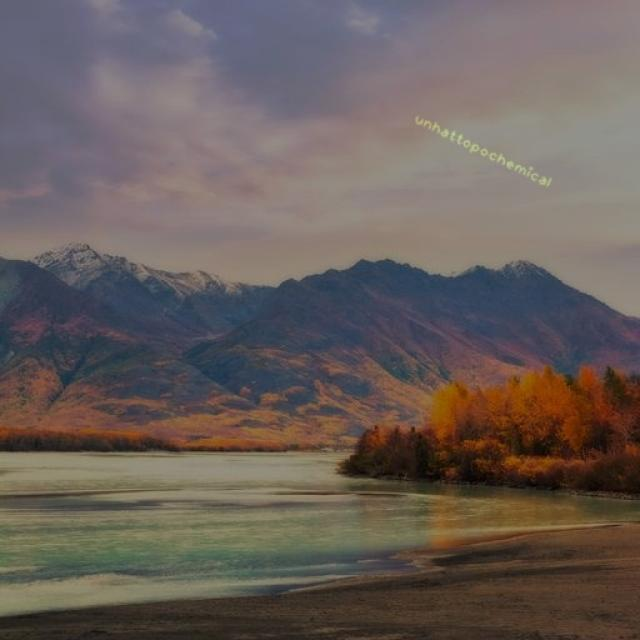watermark: (408, 110, 557, 189)
